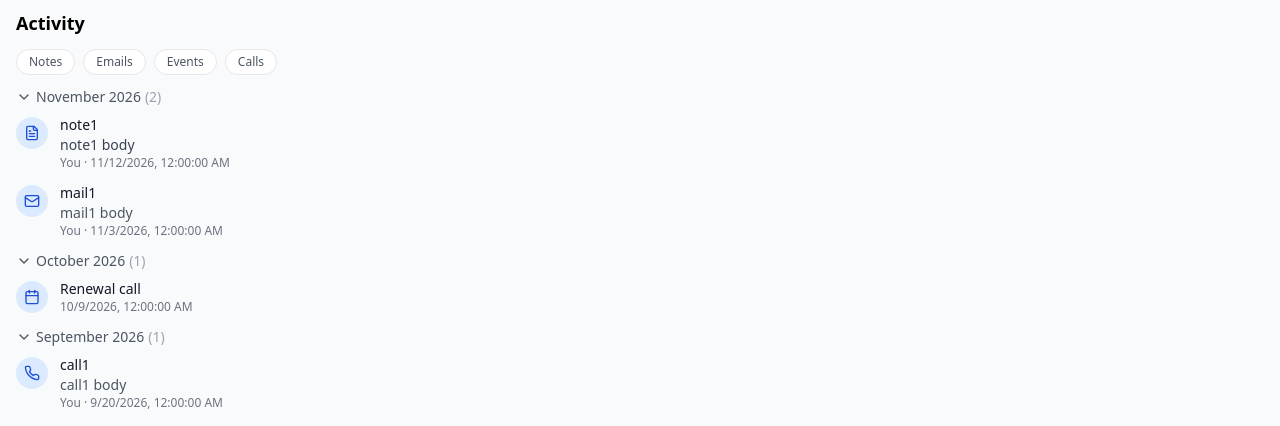
Test case: RecordTimeline › groups rows by month with typed icons, filters by type, and includes linked calendar events
This screenshot has width=1280, height=426.
Expected: the button "November 2026 (2)" is shown, x1=16 y1=87 x2=1264 y2=107
Expected: the button "October 2026 (1)" is shown, x1=16 y1=251 x2=1264 y2=271
Step 1. Click the button "Emails" → (114, 62), box x1=83 y1=49 x2=146 y2=75
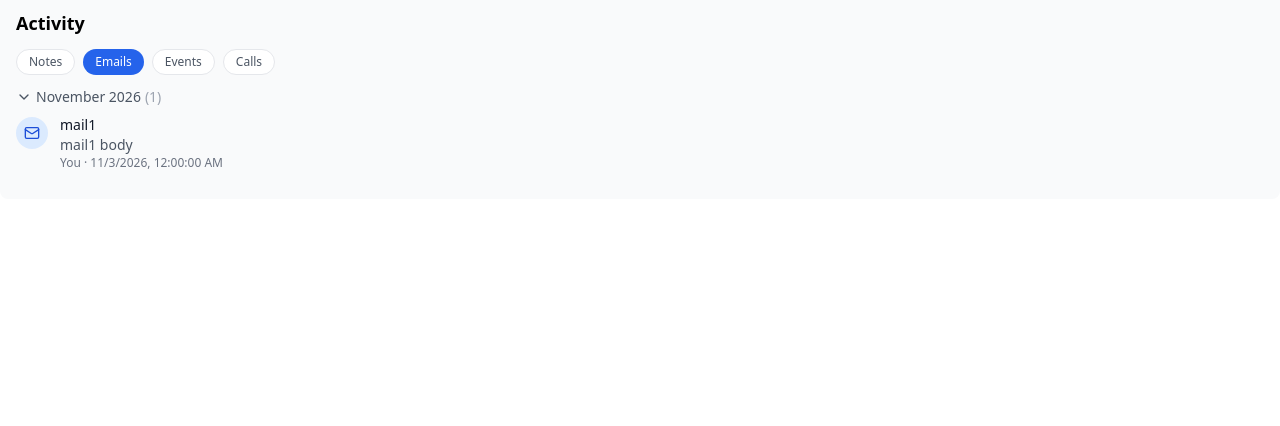
Expected: the text "mail1" is shown, x1=60 y1=115 x2=96 y2=134
Now the text "note1" is gone
Now the text "Renewal call" is gone
Step 2. Click the button "Emails" → (114, 62), box x1=83 y1=49 x2=144 y2=75
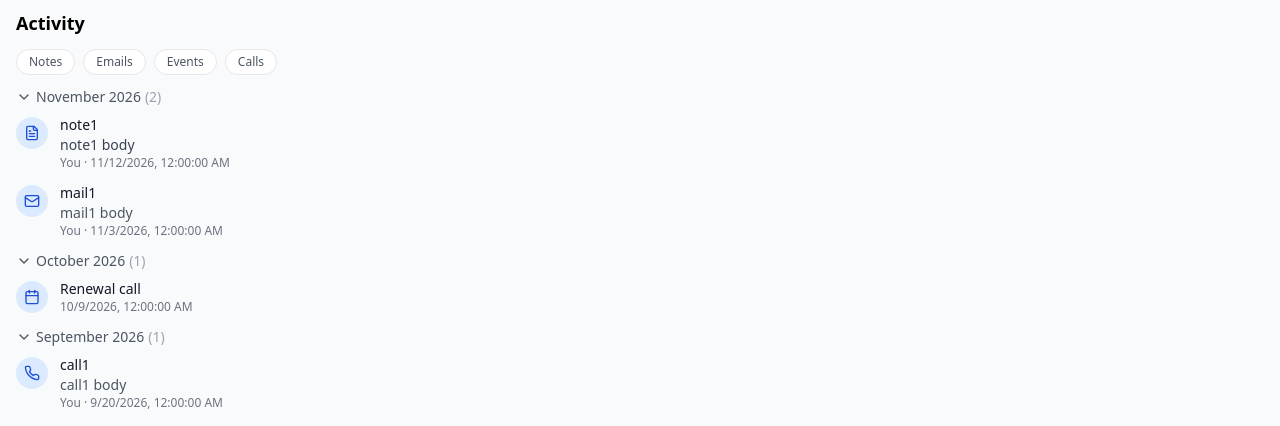
Now the text "note1" is shown, box x1=60 y1=115 x2=98 y2=134
